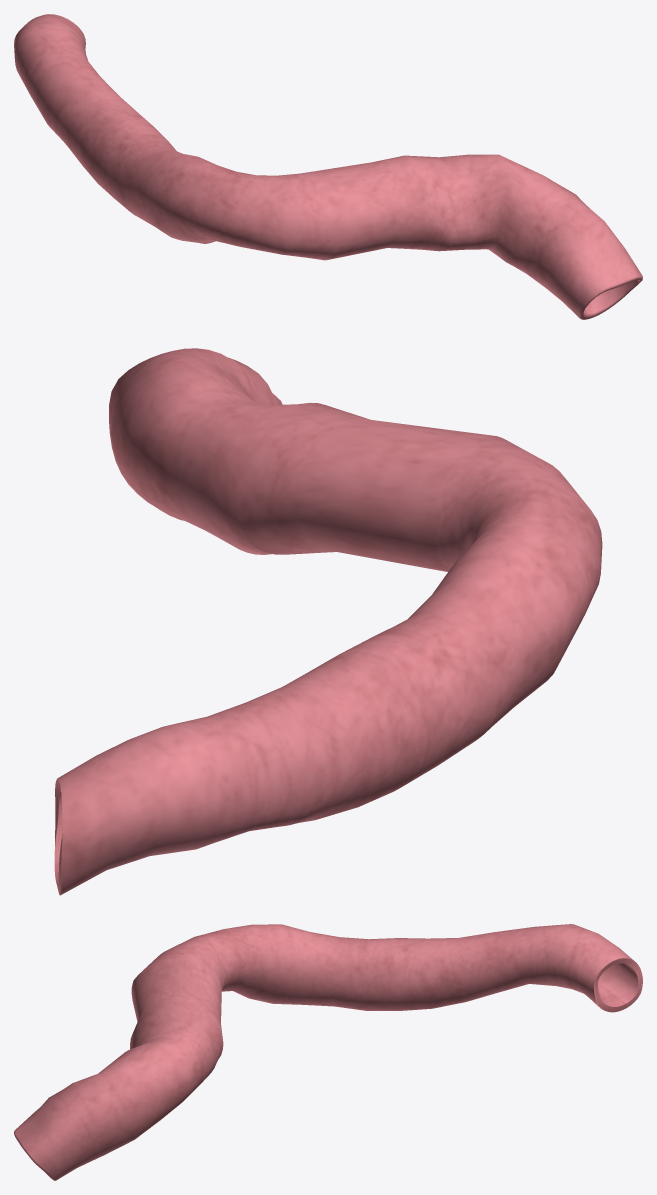
File: Large Intestine.glb
3 views of the same model, one above another, from view 1: azimuth 30°, elevation 25°; view 2: azimuth 150°, elevation 25°; view 3: azimuth 270°, elevation 25° (orthographic). The views are drawn at different scales.
Visible parts, largest first — view 1: LargeIntestine; view 2: LargeIntestine; view 3: LargeIntestine.
Part boxes in pixels (x1,y1,x2,y2): LargeIntestine: (14,14,642,319); LargeIntestine: (54,348,602,895); LargeIntestine: (14,924,642,1180).
Size of the model in its own units: 71.7 by 28.05 by 120.
1 material, 1 textured.
